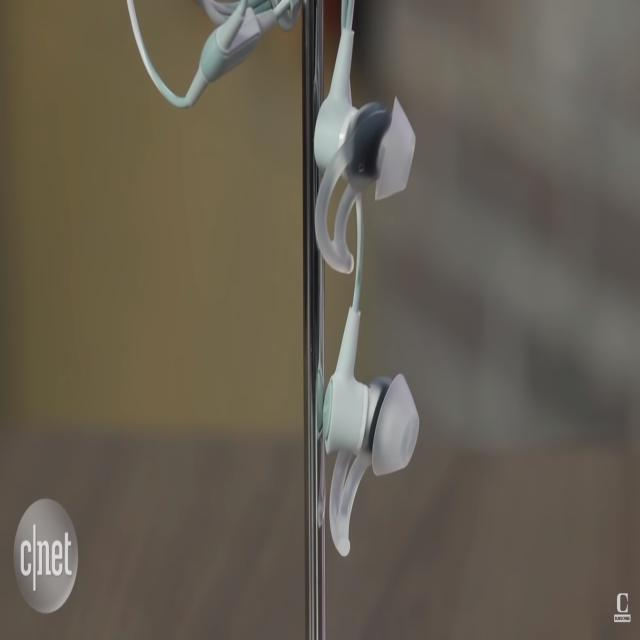Earphone: (128, 1, 420, 558)
